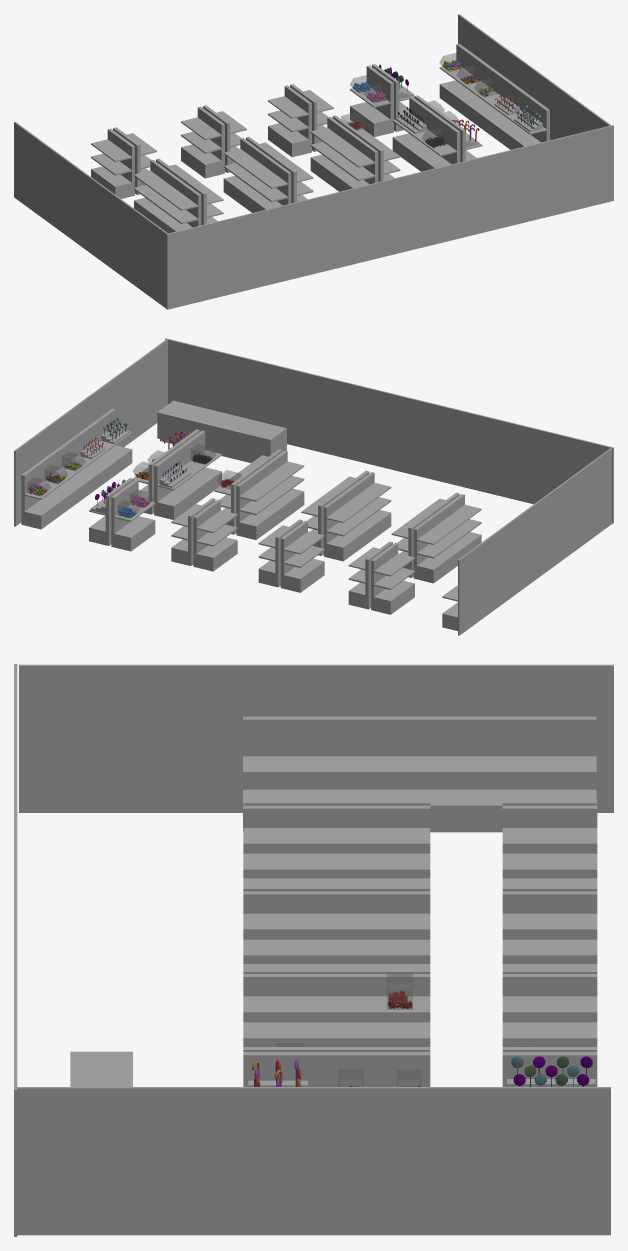
File: CandyStore_Scene3.fbx
3 views of the same model, one above another, from view 1: azimuth 30°, elevation 25°; view 2: azimuth 150°, elevation 25°; view 3: azimuth 270°, elevation 25° (orthographic). The views are drawn at different scales.
Visible parts, largest first — view 1: Wall_2, Wall_5, Shelf41, Wall_1, Shelf29, Shelf35, Shelf39, Shelf44, Shelf32, Shelf34, Shelf38, Shelf45 (+9 smaller); view 2: Wall_2, Wall_5, Wall_1, Shelf41, pCube3, Shelf35, Shelf29, Shelf39, Shelf44, Shelf34, Shelf32, Shelf38 (+10 smaller); view 3: Wall_1, Wall_5, Shelf42, Shelf37, Shelf33, Shelf30, Shelf40, Shelf36, Shelf31, Shelf43, Wall_2, pCube3 (+6 smaller).
Boxes of the visible parts, left/top/right/bottom form: Wall_2: left=166, top=125, right=613, bottom=309; Wall_5: left=14, top=121, right=167, bottom=308; Shelf41: left=439, top=43, right=549, bottom=149; Wall_1: left=458, top=14, right=611, bottom=140; Shelf29: left=310, top=116, right=378, bottom=191; Shelf35: left=223, top=138, right=291, bottom=212; Shelf39: left=134, top=160, right=201, bottom=233; Shelf44: left=392, top=96, right=460, bottom=171; Shelf32: left=268, top=85, right=311, bottom=157; Shelf34: left=181, top=106, right=224, bottom=178; Shelf38: left=91, top=128, right=134, bottom=198; Shelf45: left=350, top=65, right=393, bottom=137; Wall_2: left=165, top=338, right=613, bottom=523; Wall_5: left=458, top=448, right=612, bottom=635; Wall_1: left=14, top=339, right=167, bottom=526; Shelf41: left=21, top=408, right=132, bottom=529; pCube3: left=157, top=400, right=286, bottom=462; Shelf35: left=323, top=472, right=391, bottom=561; Shelf29: left=236, top=450, right=304, bottom=539; Shelf39: left=413, top=494, right=481, bottom=583; Shelf44: left=154, top=430, right=221, bottom=519; Shelf34: left=280, top=521, right=324, bottom=592; Shelf32: left=193, top=499, right=237, bottom=571; Shelf38: left=371, top=542, right=414, bottom=614; Wall_1: left=16, top=1087, right=610, bottom=1235; Wall_5: left=19, top=664, right=613, bottom=812; Shelf42: left=243, top=716, right=596, bottom=832; Shelf37: left=243, top=805, right=430, bottom=885; Shelf33: left=243, top=891, right=430, bottom=968; Shelf30: left=243, top=974, right=430, bottom=1046; Shelf40: left=502, top=805, right=597, bottom=885; Shelf36: left=502, top=891, right=597, bottom=968; Shelf31: left=502, top=974, right=597, bottom=1046; Shelf43: left=243, top=1052, right=430, bottom=1086; Wall_2: left=14, top=664, right=17, bottom=1236; pCube3: left=70, top=1051, right=132, bottom=1086.
Bounding box in the file's own units: 59.89 × 9.65 × 35.67.
